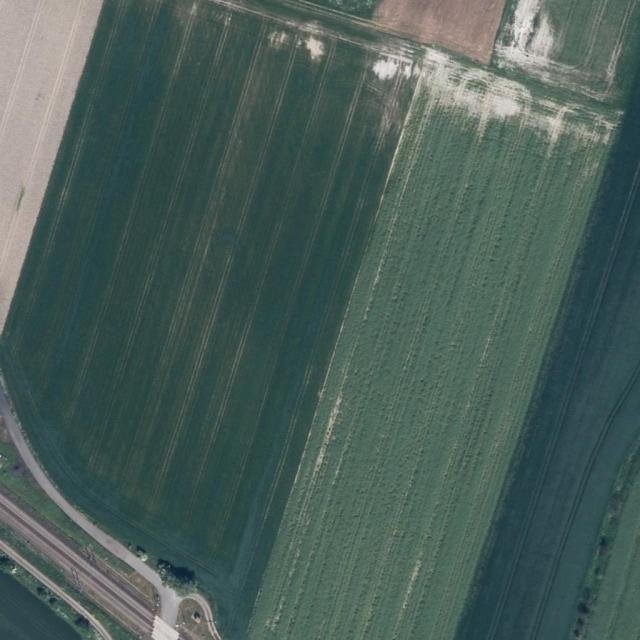metalled_road: (0, 384, 192, 634)
